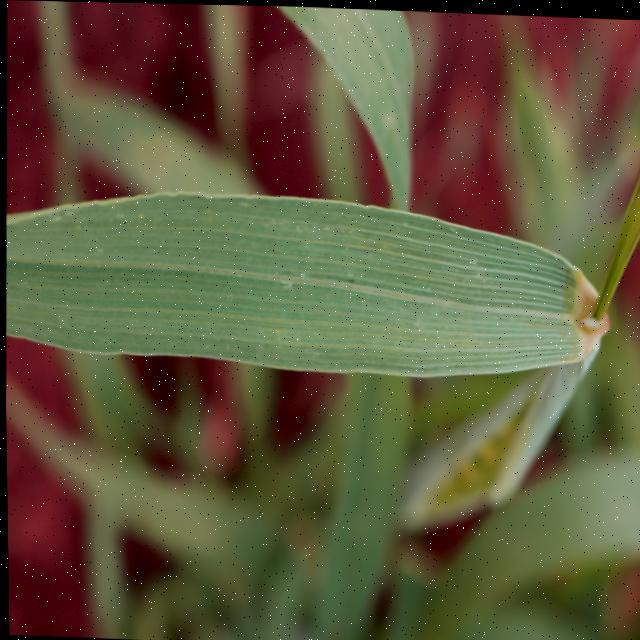healthy_wheat: (2, 141, 640, 397), (242, 4, 437, 248), (383, 354, 598, 547)
